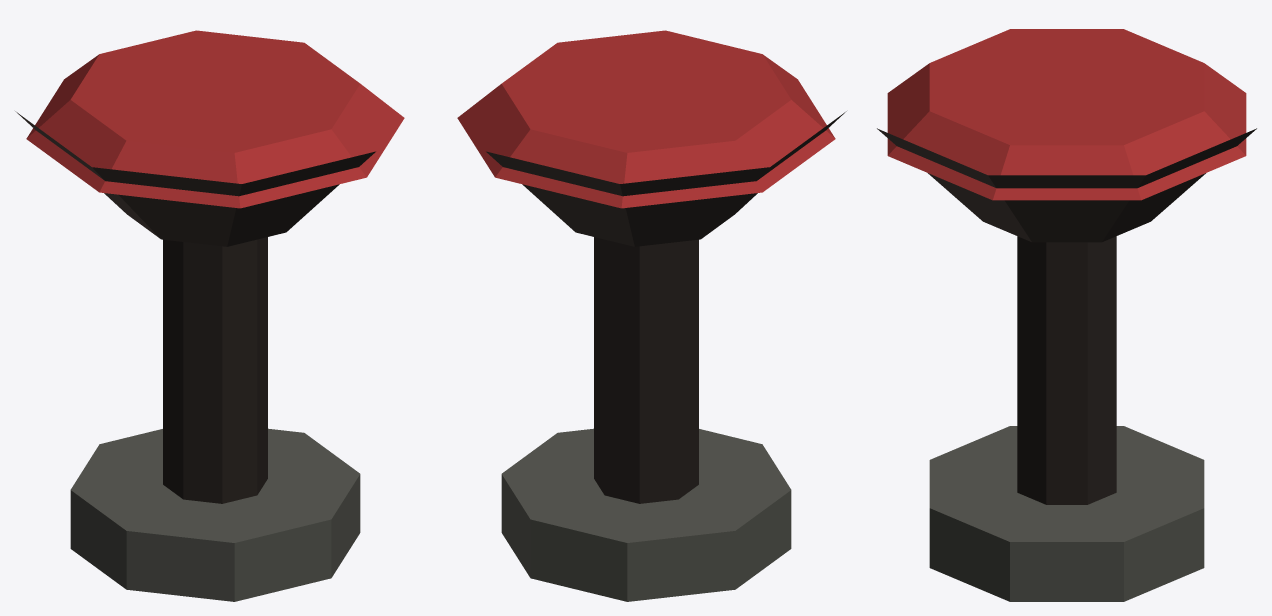
Rendered from brazier.glb.
3 views of the same model, side by side, from view 1: azimuth 30°, elevation 25°; view 2: azimuth 150°, elevation 25°; view 3: azimuth 270°, elevation 25° (orthographic).
Parts seen in each view (by area): view 1: Coals, Base, Post, Bowl; view 2: Coals, Base, Post, Bowl; view 3: Coals, Base, Post, Bowl.
Boxes of the visible parts, left/top/right/bottom form: Coals: left=26, top=30, right=404, bottom=208; Base: left=70, top=428, right=360, bottom=601; Post: left=163, top=237, right=267, bottom=503; Bowl: left=15, top=111, right=375, bottom=246; Coals: left=457, top=30, right=835, bottom=208; Base: left=501, top=428, right=791, bottom=601; Post: left=594, top=237, right=698, bottom=503; Bowl: left=486, top=111, right=846, bottom=246; Coals: left=887, top=29, right=1246, bottom=200; Base: left=929, top=426, right=1204, bottom=601; Post: left=1017, top=236, right=1116, bottom=504; Bowl: left=877, top=128, right=1256, bottom=242.
Size of what is drawn, in the model's own units: 0.9239 by 1.22 by 0.9239.
